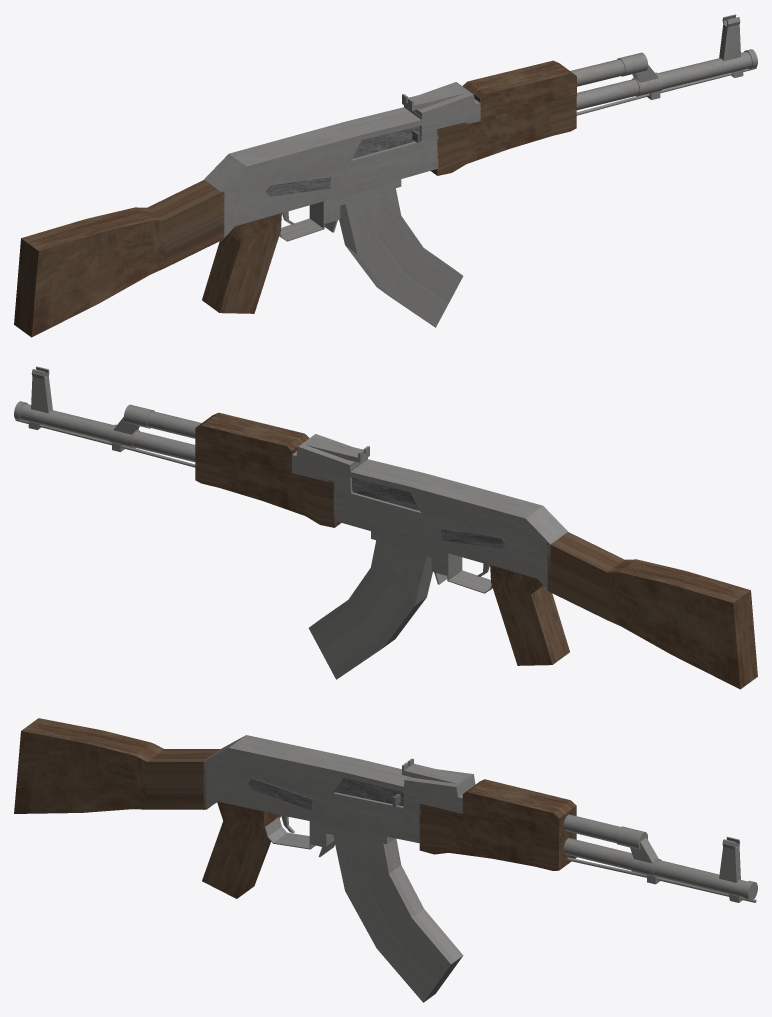
3 renders of one model, top to bottom at view 1: azimuth 30°, elevation 25°; view 2: azimuth 150°, elevation 25°; view 3: azimuth 330°, elevation 25°, orthographic.
Visible parts, largest first — view 1: AK; view 2: AK; view 3: AK.
Part boxes in pixels (box(x1,y1,x2,y2)): AK: box(14, 14, 757, 337); AK: box(14, 366, 757, 689); AK: box(14, 718, 757, 1002).
Bounding box in the file's own units: 1702 × 515 × 86.67.
